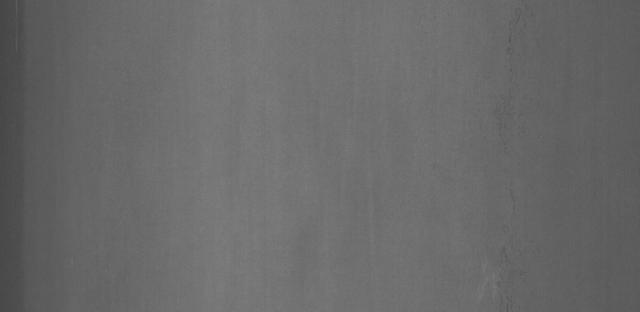silk_spot: (464, 220, 536, 310)
